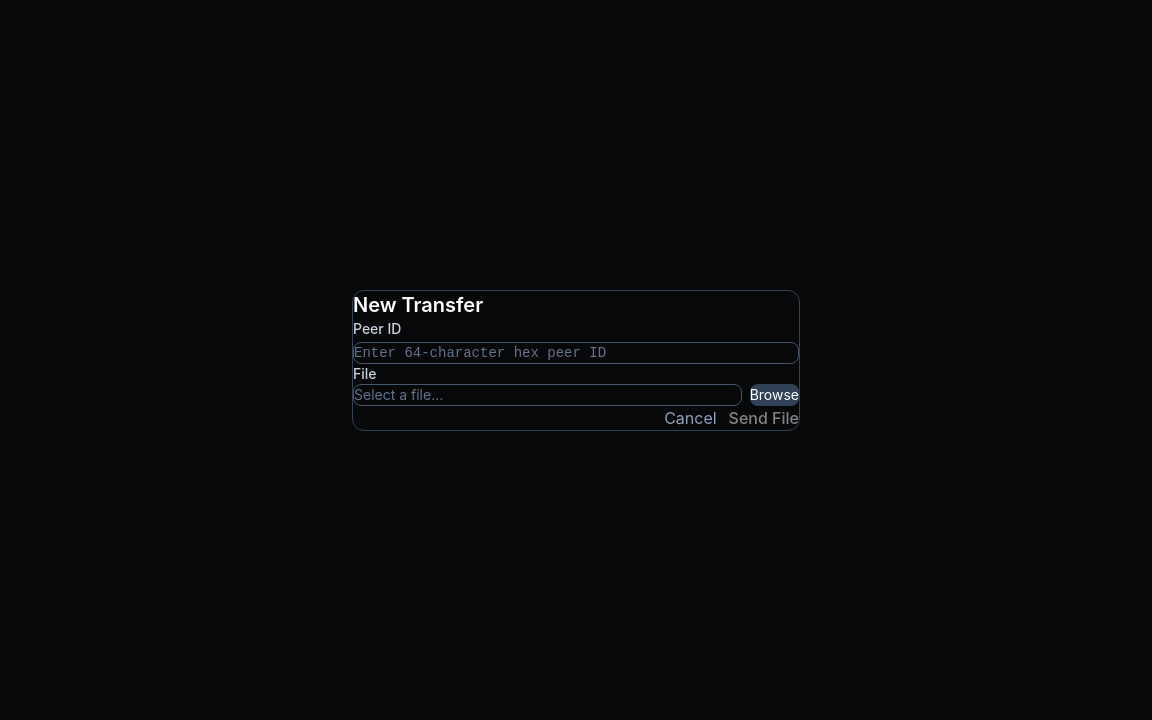
Test: NewTransferDialog › peer ID validation › shows error for invalid peer ID length
Type "abc123" into the field with placeholder "Enter 64-character hex peer ID".
click(576, 352); type("abc123")  # box left=353, top=342, right=799, bottom=364
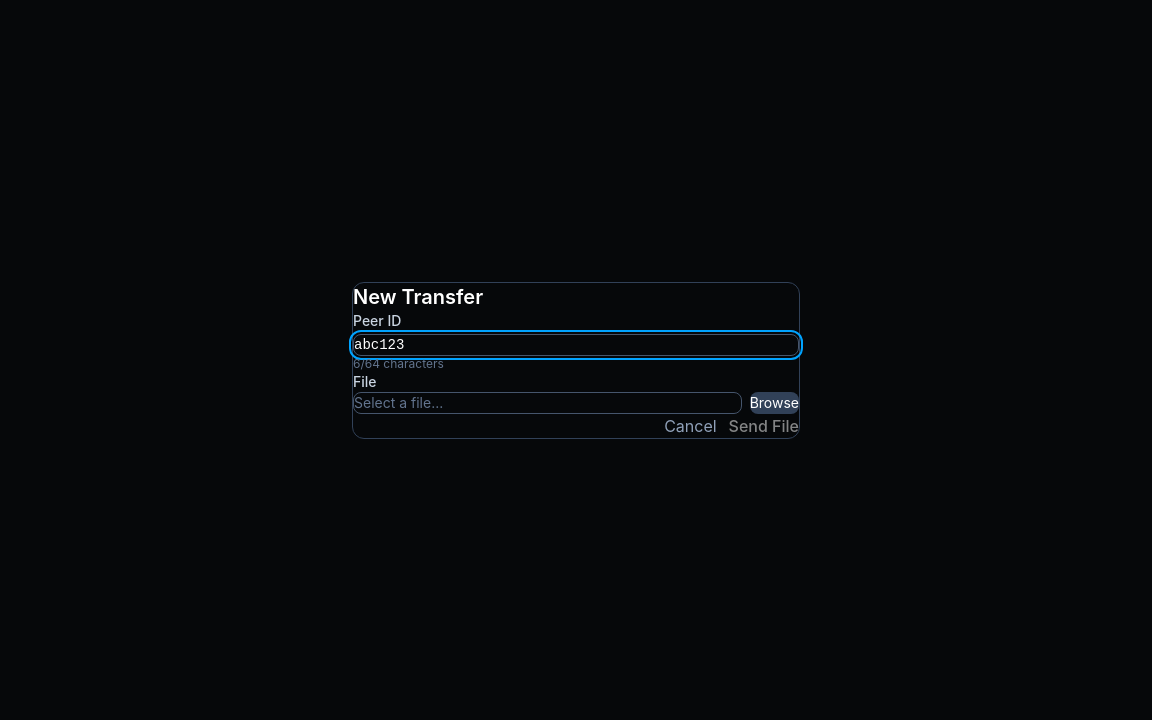
Leave the field with placeholder "Enter 64-character hex peer ID", box left=353, top=334, right=799, bottom=356
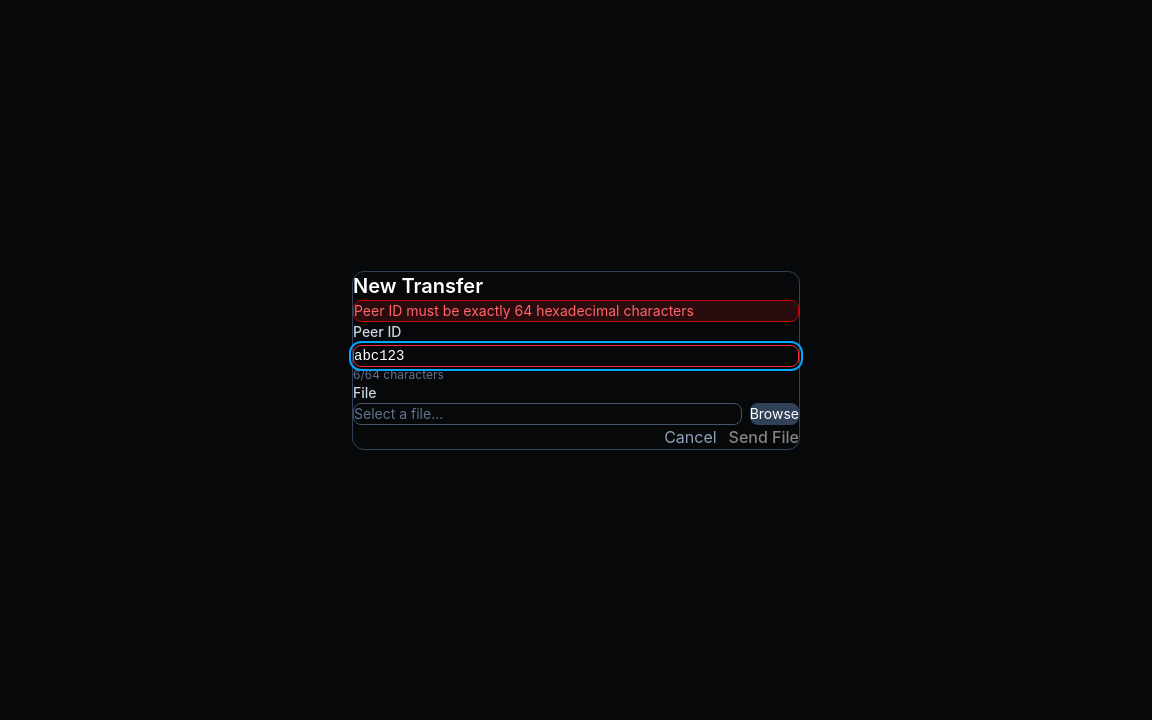
Check: the text "Peer ID must be exactly 64 hexadecimal characters" is shown, box left=353, top=300, right=799, bottom=322
